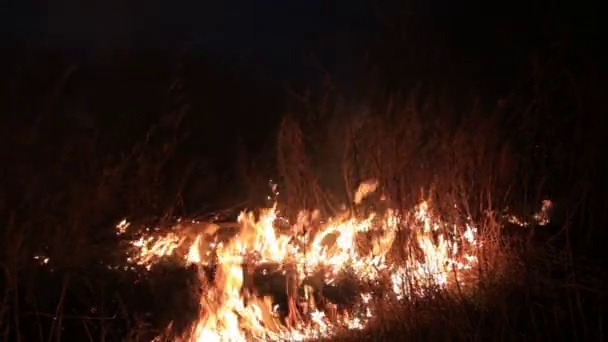fire: (187, 210, 477, 341), (130, 230, 185, 268), (353, 178, 378, 202), (535, 198, 552, 225), (114, 218, 130, 233)
